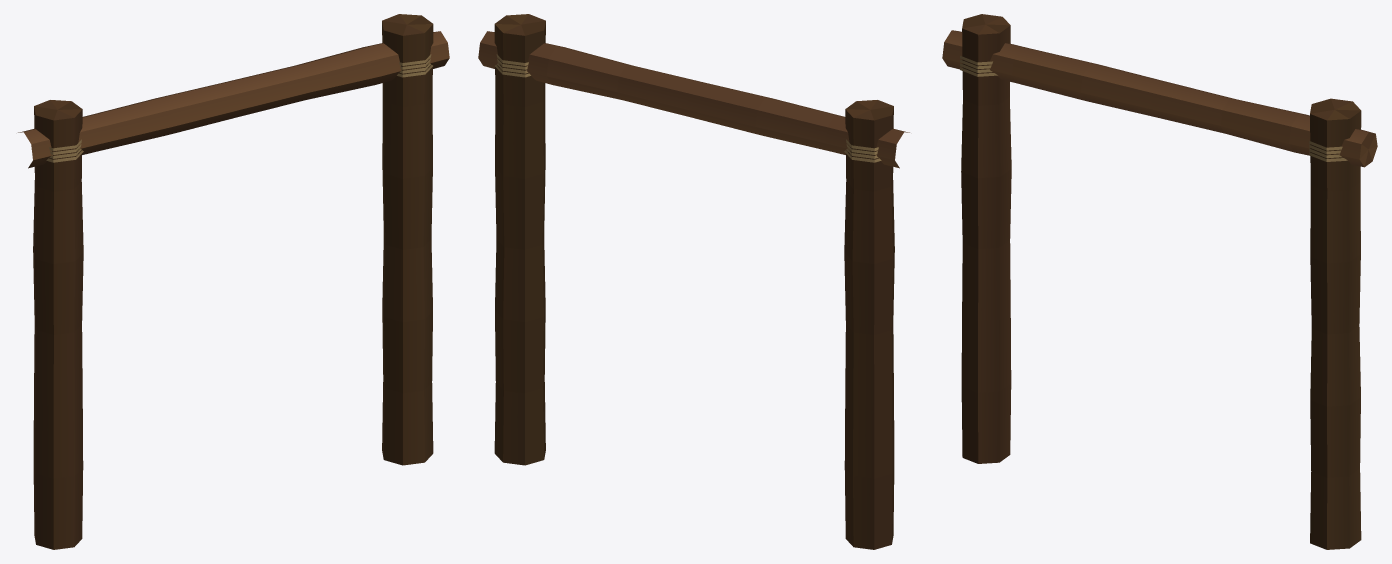
File: gate_frame.glb
The picture shows the model from 3 angles, left to right: view 1: azimuth 30°, elevation 25°; view 2: azimuth 150°, elevation 25°; view 3: azimuth 330°, elevation 25°; orthographic projection.
Visible parts, largest first — view 1: gate_frame_solid; view 2: gate_frame_solid; view 3: gate_frame_solid.
Boxes of the visible parts, x1,y1,x2,y2 form: gate_frame_solid: (18, 14, 449, 549); gate_frame_solid: (478, 14, 909, 549); gate_frame_solid: (942, 14, 1377, 549).
Size of the model in its own units: 3.2 by 3.15 by 0.3547.
